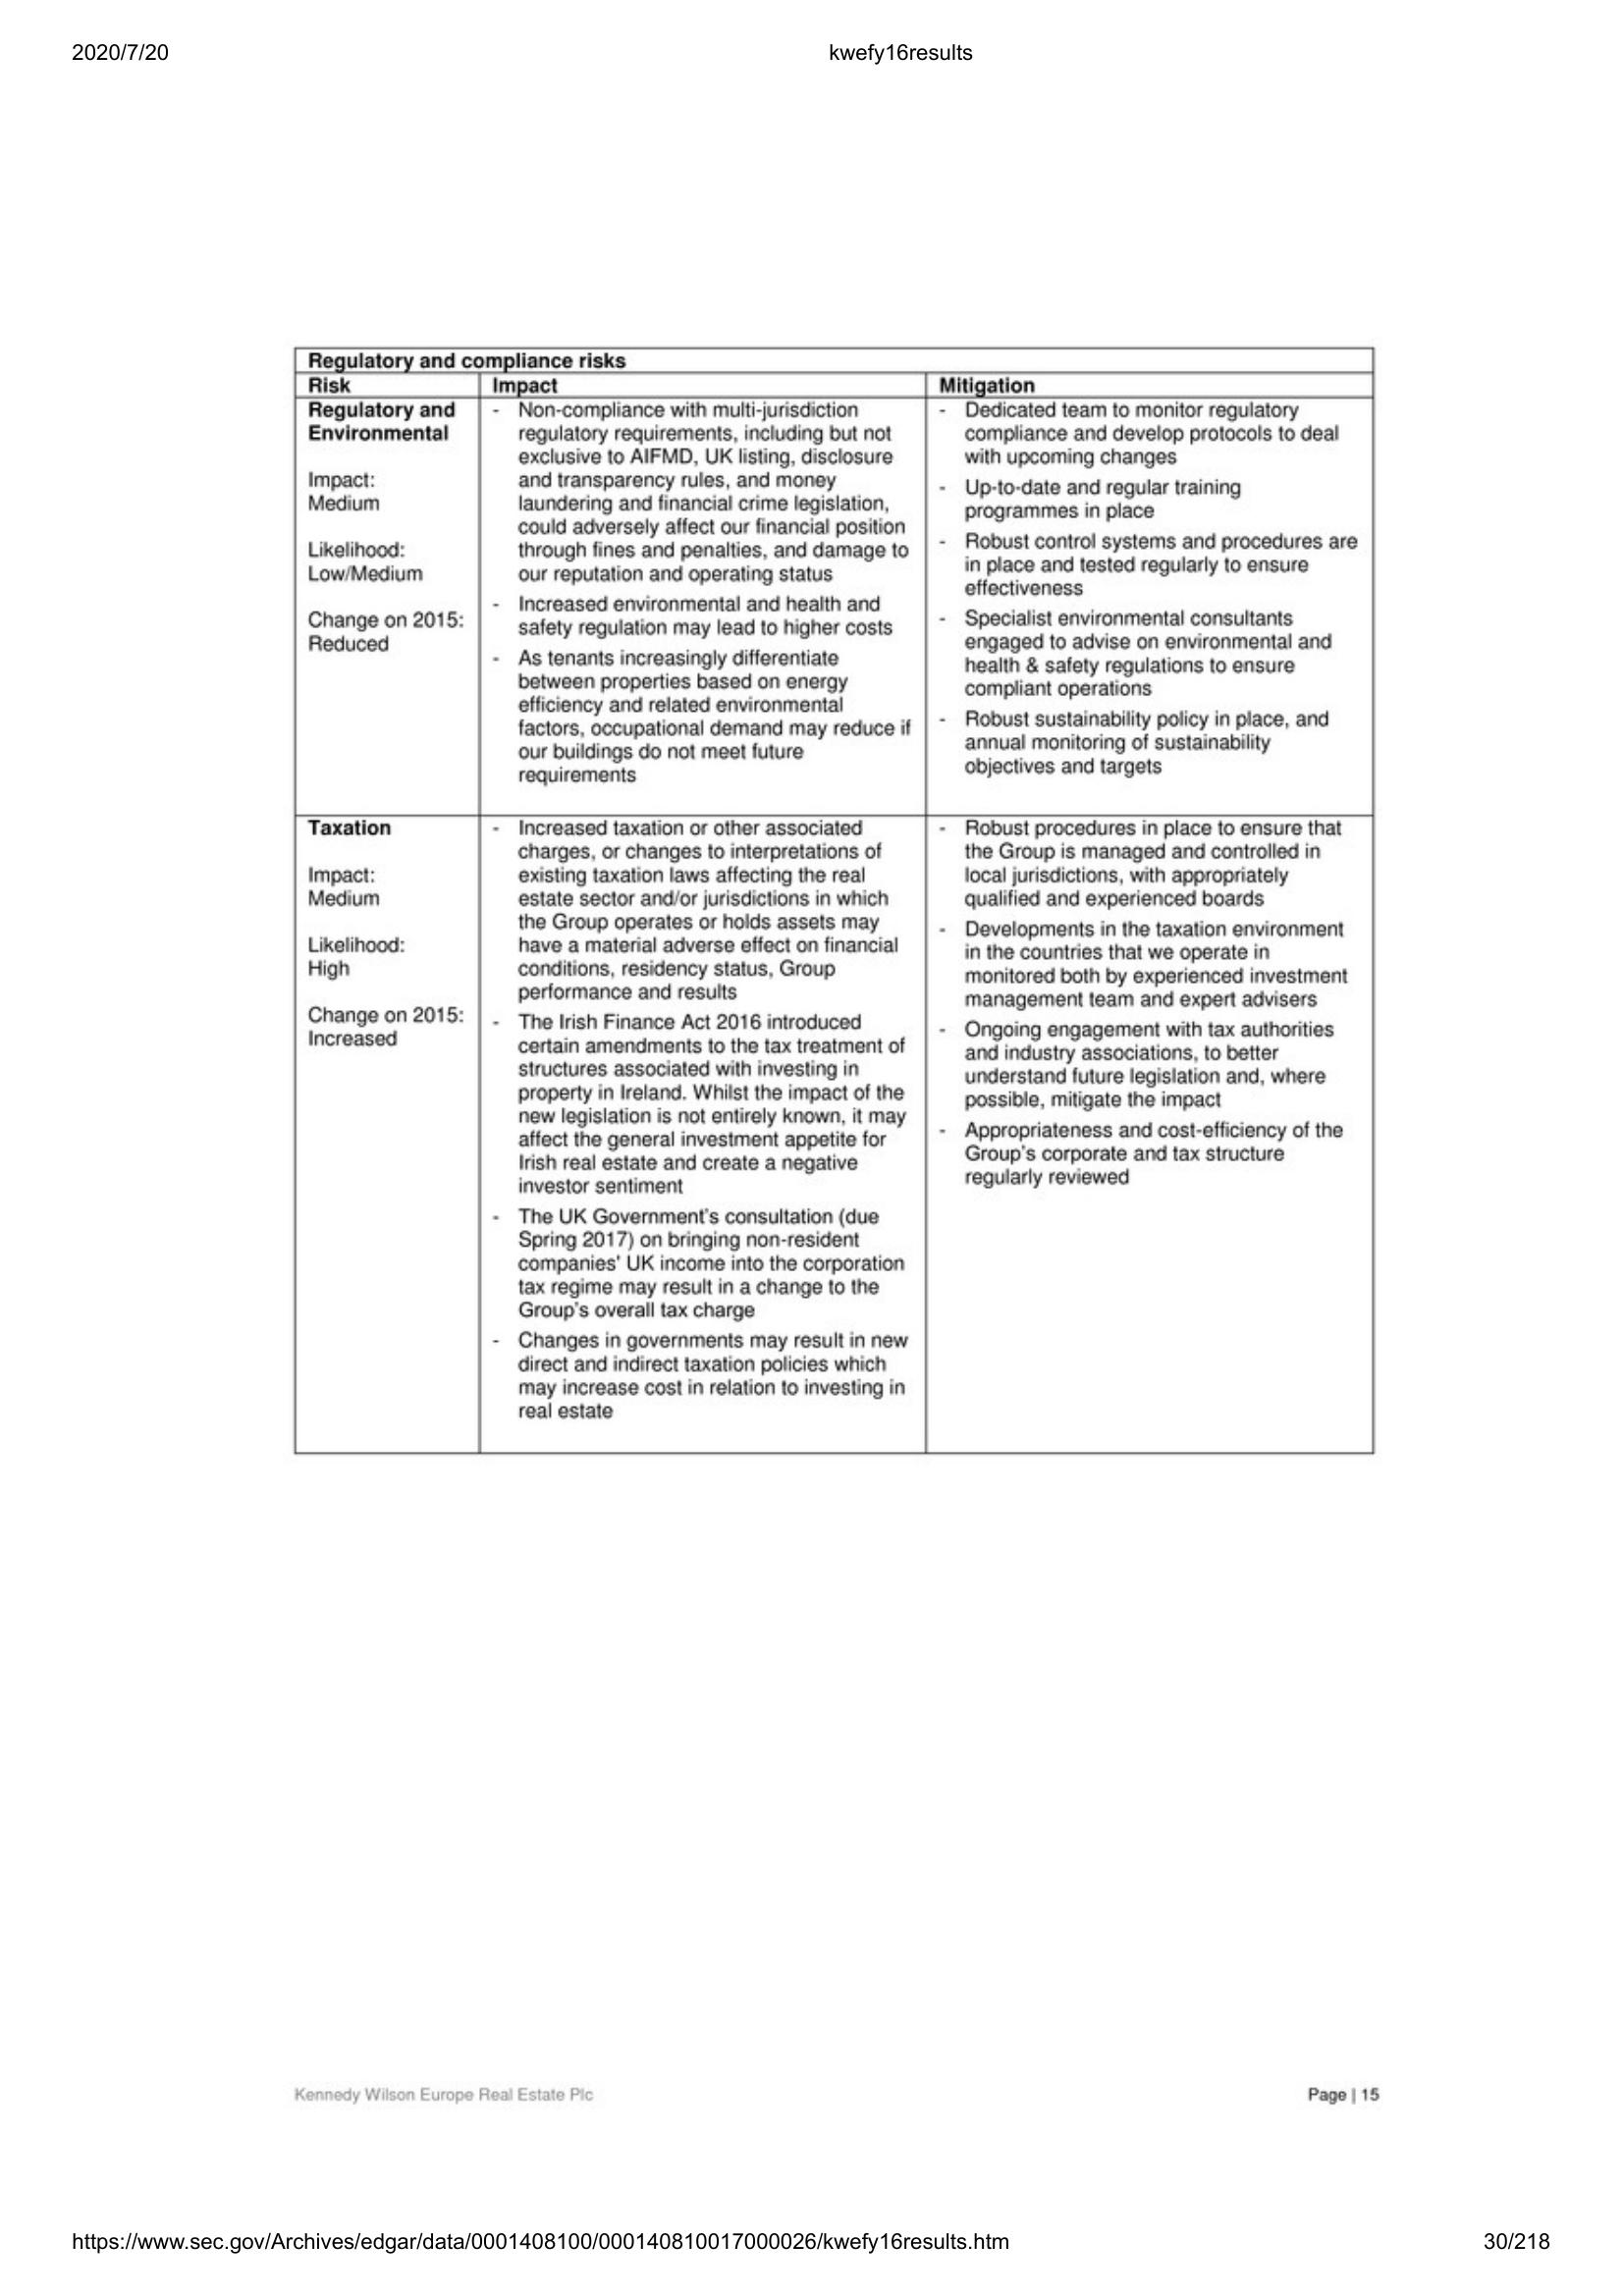table: (288, 344, 1384, 1462)
